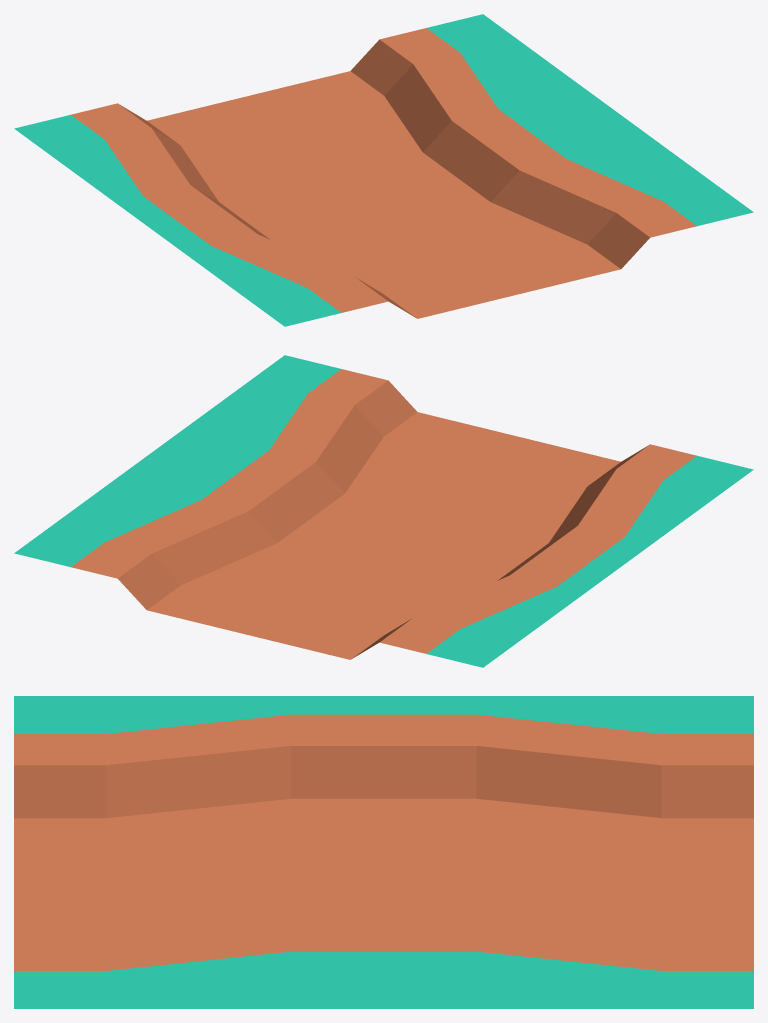
File: ground_pathStraight.dae
3 views of the same model, one above another, from view 1: azimuth 30°, elevation 25°; view 2: azimuth 150°, elevation 25°; view 3: azimuth 270°, elevation 25° (orthographic). The views are drawn at different scales.
Visible parts, largest first — view 1: ground_pathStraight; view 2: ground_pathStraight; view 3: ground_pathStraight.
Part boxes in pixels (box(x1,y1,x2,y2)): ground_pathStraight: box(14, 14, 753, 326); ground_pathStraight: box(14, 355, 753, 667); ground_pathStraight: box(14, 696, 753, 1008).
Size of the model in its own units: 1 by 0.05 by 1.
